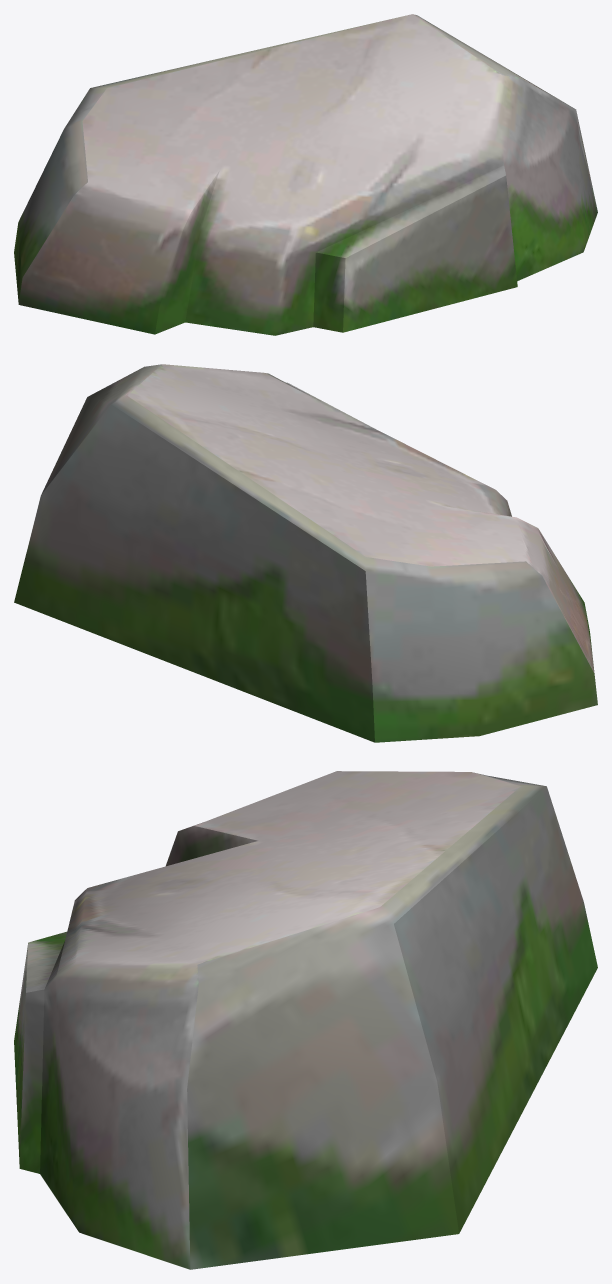
File: ZhuCheng_Shitou_02.fbx
The picture shows the model from 3 angles, top to bottom: view 1: azimuth 30°, elevation 25°; view 2: azimuth 150°, elevation 25°; view 3: azimuth 270°, elevation 25°; orthographic projection. The views are drawn at different scales.
Parts seen in each view (by area): view 1: ZhuCheng_Shitou_02; view 2: ZhuCheng_Shitou_02; view 3: ZhuCheng_Shitou_02.
Boxes of the visible parts, box(x1,y1,x2,y2) form: ZhuCheng_Shitou_02: box(14, 14, 597, 335); ZhuCheng_Shitou_02: box(14, 364, 597, 742); ZhuCheng_Shitou_02: box(14, 771, 597, 1269).
Size of the model in its own units: 3.39 by 1.13 by 2.16.
